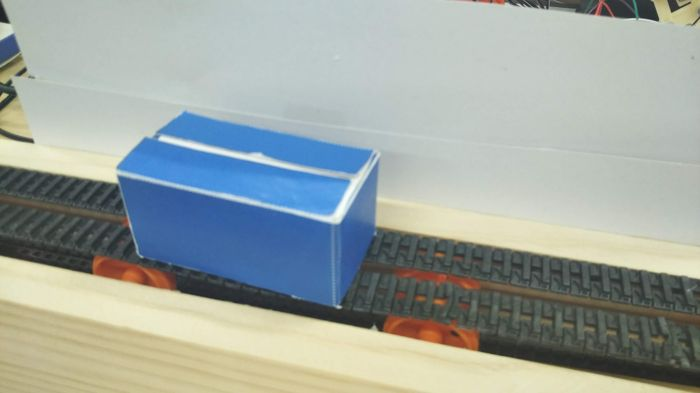box3: (116, 108, 380, 309)
